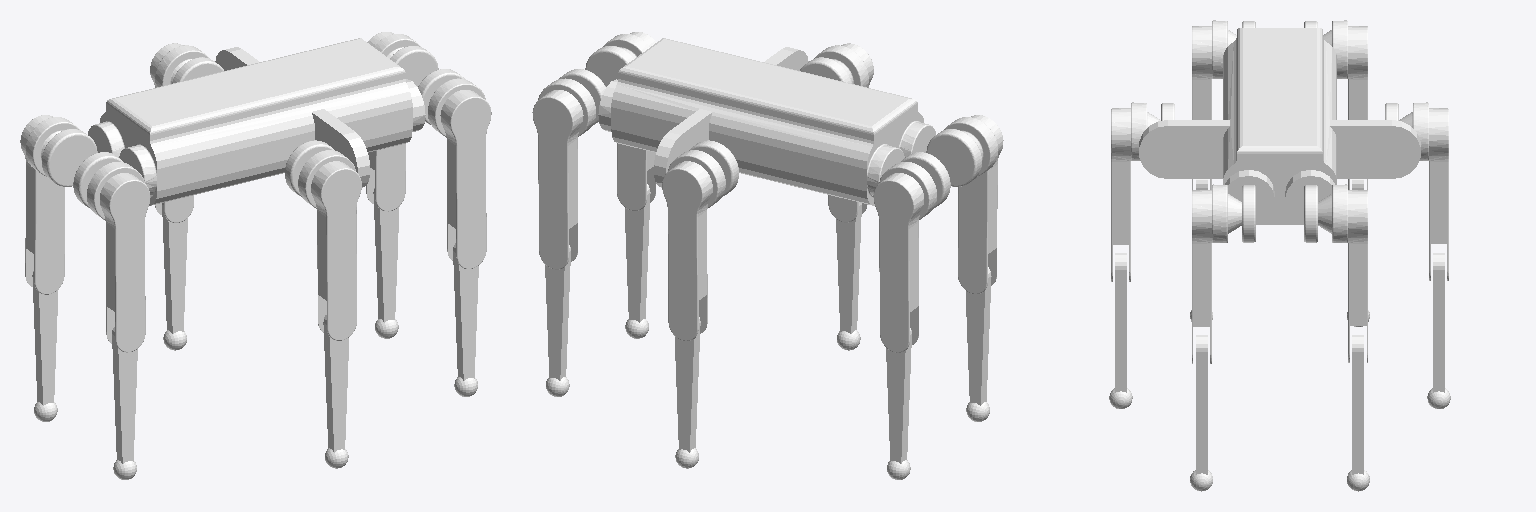
--- Render facts (derived) ---
3 views of the same robot in one strip: view 1: azimuth 30°, elevation 25°; view 2: azimuth 150°, elevation 25°; view 3: azimuth 270°, elevation 25° (orthographic).
Model LittleDog with 25 links and 24 joints (18 revolute, 6 fixed), rooted at base, posed every joint at zero.
Visible links, largest first — view 1: base, leg2_leg, leg1_leg, leg3_leg, leg4_leg, leg6_leg, leg1_foot, leg2_foot, leg3_foot, leg6_foot, leg5_foot, leg4_foot (+7 smaller); view 2: base, leg5_leg, leg4_leg, leg6_leg, leg3_leg, leg1_leg, leg1_foot, leg3_foot, leg2_foot, leg6_foot, leg4_foot, leg5_foot (+7 smaller); view 3: base, leg1_leg, leg6_leg, leg2_leg, leg5_leg, leg3_leg, leg4_leg, leg1_foot, leg2_foot, leg5_foot, leg6_foot, leg1_hip (+1 smaller).
Link boxes in pixels (x1=…): base: x1=88, y1=38, x2=425, y2=205; leg2_leg: x1=298, y1=150, x2=361, y2=340; leg1_leg: x1=428, y1=78, x2=491, y2=268; leg3_leg: x1=87, y1=162, x2=150, y2=352; leg4_leg: x1=20, y1=115, x2=79, y2=294; leg6_leg: x1=366, y1=32, x2=420, y2=211; leg1_foot: x1=453, y1=243, x2=478, y2=396; leg2_foot: x1=323, y1=314, x2=348, y2=468; leg3_foot: x1=112, y1=326, x2=137, y2=479; leg6_foot: x1=373, y1=188, x2=399, y2=338; leg5_foot: x1=162, y1=203, x2=187, y2=350; leg4_foot: x1=32, y1=271, x2=58, y2=421; base: x1=598, y1=38, x2=935, y2=205; leg5_leg: x1=662, y1=150, x2=725, y2=340; leg4_leg: x1=873, y1=162, x2=936, y2=352; leg6_leg: x1=532, y1=78, x2=595, y2=269; leg3_leg: x1=944, y1=115, x2=1003, y2=293; leg1_leg: x1=603, y1=32, x2=656, y2=210; leg1_foot: x1=625, y1=184, x2=650, y2=338; leg3_foot: x1=966, y1=267, x2=991, y2=421; leg2_foot: x1=836, y1=202, x2=861, y2=350; leg6_foot: x1=545, y1=245, x2=570, y2=396; leg4_foot: x1=886, y1=328, x2=911, y2=479; leg5_foot: x1=675, y1=317, x2=700, y2=468; base: x1=1139, y1=28, x2=1420, y2=224; leg1_leg: x1=1192, y1=184, x2=1241, y2=363; leg6_leg: x1=1318, y1=184, x2=1367, y2=362; leg2_leg: x1=1111, y1=102, x2=1160, y2=281; leg5_leg: x1=1399, y1=102, x2=1448, y2=280; leg3_leg: x1=1192, y1=20, x2=1236, y2=189; leg4_leg: x1=1323, y1=20, x2=1367, y2=189; leg1_foot: x1=1190, y1=335, x2=1212, y2=491; leg2_foot: x1=1109, y1=253, x2=1132, y2=408; leg5_foot: x1=1427, y1=253, x2=1450, y2=408; leg6_foot: x1=1347, y1=335, x2=1369, y2=491; leg1_hip: x1=1242, y1=185, x2=1255, y2=242.
Size in the robot's own frame: 0.76 by 0.581 by 0.603 metres.
19 mesh visuals loaded from 4 distinct referenced files (4 binary STL).

robot.urdf — LittleDog:
<?xml version="1.0" encoding="utf-8"?>
<robot name="LittleDog">   <!-- <link name="dummy"/>   <joint     name="base_joint"     type="floating">     <origin
    xyz="0 0 0"       rpy="0 0 0" />     <parent       link="dummy" />     <child       link="base" />   </joint> -->
    <link name="base">
        <inertial>
            <origin xyz="0.0 0 0" rpy="0 0 0" />
            <mass value="18" />
            <inertia ixx="2.8097" ixy="-2.0952E-08" ixz="0.00042103" iyy="2.5396" iyz="-1.2134E-07"
                izz="0.597765" />
        </inertial>
        <visual>
            <origin xyz="0 0 0" rpy="0 0 0" />
            <geometry>
                <mesh filename="meshes/base.STL" />
            </geometry>
            <material name="">
                <color rgba="1 1 1 1" />
            </material>
        </visual>
        <collision>
            <origin xyz="0 0 0" rpy="0 0 0" />
            <geometry>
                <mesh filename="meshes/base.STL" />
            </geometry>
        </collision>
    </link>  <!--
    ###########################################LEG############################################################# -->
    <joint name="leg1_hip_joint" type="revolute">
        <origin xyz="0.33 -0.053 0" rpy="0 0 0" />
        <parent link="base" />
        <child link="leg1_hip" />
        <axis xyz="1 0 0" />
        <limit effort="150.0" lower="-3.14" upper="3.14" velocity="12.0" />
        <dynamics damping="0.1" friction="0.1" />
    </joint>
    <link name="leg1_hip">
        <inertial>
            <origin xyz="2.498E-15 2.2766E-11 1.2072E-17" rpy="0 0 0" />
            <mass value="0.17895" />
            <inertia ixx="0.00011469" ixy="-3.4979E-11" ixz="4.0437E-12" iyy="0.00021251"
                iyz="3.2251E-19" izz="0.00011468" />
        </inertial>
        <visual>
            <origin xyz="0 0 0" rpy="0 0 0" />
            <geometry>
                <mesh filename="meshes/hip.STL" />
            </geometry>
            <material name="">
                <color rgba="1 1 1 1" />
            </material>
        </visual>
        <collision>
            <origin xyz="0 0 0" rpy="0 0 0" />
            <geometry>
                <mesh filename="meshes/hip.STL" />
            </geometry>
        </collision>
    </link>
    <joint name="leg1_leg_joint" type="revolute">
        <origin xyz="0 0 0" rpy="0 0 0" />
        <parent link="leg1_hip" />
        <child link="leg1_leg" />
        <axis xyz="0 1 0" />
        <limit effort="150.0" lower="-3.14" upper="3.14" velocity="12.0" />
        <dynamics damping="0.1" friction="0.1" />
    </joint>
    <link name="leg1_leg">
        <inertial>
            <origin xyz="0 -0.058704 -0.04009" rpy="0 0 0" />
            <mass value="0.30946" />
            <inertia ixx="0.0009075" ixy="-0.00021806" ixz="-0.00084388" iyy="0.0021285"
                iyz="-0.00015752" izz="0.0014658" />
        </inertial>
        <visual>
            <origin xyz="0 0 0" rpy="0 -0.95132396 0" />
            <geometry>
                <mesh filename="meshes/leg.STL" />
            </geometry>
            <material name="">
                <color rgba="1 1 1 1" />
            </material>
        </visual>
        <collision>
            <origin xyz="0 0 0" rpy="0 -0.95132396 0" />
            <geometry>
                <mesh filename="meshes/leg.STL" />
            </geometry>
        </collision>
    </link>
    <joint name="leg1_foot_joint" type="revolute">
        <origin xyz="0 -0.08025 -0.249" rpy="0 0 0" />
        <parent link="leg1_leg" />
        <child link="leg1_foot" />
        <axis xyz="0 1 0" />
        <limit effort="150.0" lower="-3.14" upper="3.14" velocity="12.0" />
        <dynamics damping="0.1" friction="0.1" />
    </joint>
    <link name="leg1_foot">
        <inertial>
            <origin xyz="0.0 0 -0.122654" rpy="0 0 0" />
            <mass value="0.18869" />
            <inertia ixx="0.00043151" ixy="5.6906E-12" ixz="0.00064051" iyy="0.0014468"
                iyz="7.208E-12" izz="0.001031" />
        </inertial>
        <visual>
            <origin xyz="0 0 0" rpy="0 1.00424 0" />
            <geometry>
                <mesh filename="meshes/foot.STL" />
            </geometry>
            <material name="">
                <color rgba="1 1 1 1" />
            </material>
        </visual>
        <collision>
            <origin xyz="0 0 0" rpy="0 1.00424 0" />
            <geometry>
                <mesh filename="meshes/foot.STL" />
            </geometry>
        </collision>
    </link>    <!--
    Foot joint -->
    <joint name="leg1_foot_tip_joint" type="fixed">
        <origin rpy="0 0 0" xyz="0 0 -0.255308" />
        <parent link="leg1_foot" />
        <child link="leg1_foot_tip" />
    </joint>    <!-- Foot link -->
    <link name="leg1_foot_tip">
        <contact>
            <lateral_friction value="1" />
            <stiffness value="30000" />
            <damping value="1000" />
        </contact>
        <inertial>
            <mass value="1e-6" />
            <inertia ixx="1e-6" ixy="1e-7" ixz="1e-7" iyy="1e-6" iyz="1e-7" izz="1e-6" />
        </inertial>
        <collision>
            <origin rpy="0 0 0" xyz="0 0 0" />
            <geometry>
                <sphere radius="0.01" />
            </geometry>
        </collision>
        <visual>
            <geometry>
                <sphere radius="0.01" />
            </geometry>
            <material name="" />
        </visual>
    </link> <!--
    ###########################################LEG############################################################# -->  <!--
    ###########################################LEG############################################################# -->
    <joint name="leg2_hip_joint" type="revolute">
        <origin xyz="0 -0.19025 0" rpy="0 0 0" />
        <parent link="base" />
        <child link="leg2_hip" />
        <axis xyz="1 0 0" />
        <limit effort="150.0" lower="-3.14" upper="3.14" velocity="12.0" />
        <dynamics damping="0.1" friction="0.1" />
    </joint>
    <link name="leg2_hip">
        <inertial>
            <origin xyz="2.498E-15 2.2766E-11 1.2072E-17" rpy="0 0 0" />
            <mass value="0.17895" />
            <inertia ixx="0.00011469" ixy="-3.4979E-11" ixz="4.0437E-12" iyy="0.00021251"
                iyz="3.2251E-19" izz="0.00011468" />
        </inertial>
        <visual>
            <origin xyz="0 0 0" rpy="0 0 0" />
            <geometry>
                <mesh filename="meshes/hip.STL" />
            </geometry>
            <material name="">
                <color rgba="1 1 1 1" />
            </material>
        </visual>
        <collision>
            <origin xyz="0 0 0" rpy="0 0 0" />
            <geometry>
                <mesh filename="meshes/hip.STL" />
            </geometry>
        </collision>
    </link>
    <joint name="leg2_leg_joint" type="revolute">
        <origin xyz="0 0 0" rpy="0 0 0" />
        <parent link="leg2_hip" />
        <child link="leg2_leg" />
        <axis xyz="0 1 0" />
        <limit effort="150.0" lower="-3.14" upper="3.14" velocity="12.0" />
        <dynamics damping="0.1" friction="0.1" />
    </joint>
    <link name="leg2_leg">
        <inertial>
            <origin xyz="0 -0.058704 -0.04009" rpy="0 0 0" />
            <mass value="0.30946" />
            <inertia ixx="0.0009075" ixy="-0.00021806" ixz="-0.00084388" iyy="0.0021285"
                iyz="-0.00015752" izz="0.0014658" />
        </inertial>
        <visual>
            <origin xyz="0 0 0" rpy="0 -0.95132396 0" />
            <geometry>
                <mesh filename="meshes/leg.STL" />
            </geometry>
            <material name="">
                <color rgba="1 1 1 1" />
            </material>
        </visual>
        <collision>
            <origin xyz="0 0 0" rpy="0 -0.95132396 0" />
            <geometry>
                <mesh filename="meshes/leg.STL" />
            </geometry>
        </collision>
    </link>
    <joint name="leg2_foot_joint" type="revolute">
        <origin xyz="0 -0.08025 -0.249" rpy="0 0 0" />
        <parent link="leg2_leg" />
        <child link="leg2_foot" />
        <axis xyz="0 1 0" />
        <limit effort="150.0" lower="-3.14" upper="3.14" velocity="12.0" />
        <dynamics damping="0.1" friction="0.1" />
    </joint>
    <link name="leg2_foot">
        <inertial>
            <origin xyz="0.0 0 -0.122654" rpy="0 0 0" />
            <mass value="0.18869" />
            <inertia ixx="0.00043151" ixy="5.6906E-12" ixz="0.00064051" iyy="0.0014468"
                iyz="7.208E-12" izz="0.001031" />
        </inertial>
        <visual>
            <origin xyz="0 0 0" rpy="0 1.00424 0" />
            <geometry>
                <mesh filename="meshes/foot.STL" />
            </geometry>
            <material name="">
                <color rgba="1 1 1 1" />
            </material>
        </visual>
        <collision>
            <origin xyz="0 0 0" rpy="0 1.00424 0" />
            <geometry>
                <mesh filename="meshes/foot.STL" />
            </geometry>
        </collision>
    </link>    <!--
    Foot joint -->
    <joint name="leg2_foot_tip_joint" type="fixed">
        <origin rpy="0 0 0" xyz="0 0 -0.255308" />
        <parent link="leg2_foot" />
        <child link="leg2_foot_tip" />
    </joint>    <!-- Foot link -->
    <link name="leg2_foot_tip">
        <contact>
            <lateral_friction value="1" />
            <stiffness value="30000" />
            <damping value="1000" />
        </contact>
        <inertial>
            <mass value="1e-6" />
            <inertia ixx="1e-6" ixy="1e-7" ixz="1e-7" iyy="1e-6" iyz="1e-7" izz="1e-6" />
        </inertial>
        <collision>
            <origin rpy="0 0 0" xyz="0 0 0" />
            <geometry>
                <sphere radius="0.01" />
            </geometry>
        </collision>
        <visual>
            <geometry>
                <sphere radius="0.01" />
            </geometry>
            <material name="" />
        </visual>
    </link> <!--
    ###########################################LEG############################################################# -->    <!--
    ###########################################LEG############################################################# -->
    <joint name="leg3_hip_joint" type="revolute">
        <origin xyz="-0.33 -0.053 0" rpy="0 0 0" />
        <parent link="base" />
        <child link="leg3_hip" />
        <axis xyz="1 0 0" />
        <limit effort="150.0" lower="-3.14" upper="3.14" velocity="12.0" />
        <dynamics damping="0.1" friction="0.1" />
    </joint>
    <link name="leg3_hip">
        <inertial>
            <origin xyz="2.498E-15 2.2766E-11 1.2072E-17" rpy="0 0 0" />
            <mass value="0.17895" />
            <inertia ixx="0.00011469" ixy="-3.4979E-11" ixz="4.0437E-12" iyy="0.00021251"
                iyz="3.2251E-19" izz="0.00011468" />
        </inertial>
        <visual>
            <origin xyz="0 0 0" rpy="0 0 0" />
            <geometry>
                <mesh filename="meshes/hip.STL" />
            </geometry>
            <material name="">
                <color rgba="1 1 1 1" />
            </material>
        </visual>
        <collision>
            <origin xyz="0 0 0" rpy="0 0 0" />
            <geometry>
                <mesh filename="meshes/hip.STL" />
            </geometry>
        </collision>
    </link>
    <joint name="leg3_leg_joint" type="revolute">
        <origin xyz="0 0 0" rpy="0 0 0" />
        <parent link="leg3_hip" />
        <child link="leg3_leg" />
        <axis xyz="0 1 0" />
        <limit effort="150.0" lower="-3.14" upper="3.14" velocity="12.0" />
        <dynamics damping="0.1" friction="0.1" />
    </joint>
    <link name="leg3_leg">
        <inertial>
            <origin xyz="0 -0.058704 -0.04009" rpy="0 0 0" />
            <mass value="0.30946" />
            <inertia ixx="0.0009075" ixy="-0.00021806" ixz="-0.00084388" iyy="0.0021285"
                iyz="-0.00015752" izz="0.0014658" />
        </inertial>
        <visual>
            <origin xyz="0 0 0" rpy="0 -0.95132396 0" />
            <geometry>
                <mesh filename="meshes/leg.STL" />
            </geometry>
            <material name="">
                <color rgba="1 1 1 1" />
            </material>
        </visual>
        <collision>
            <origin xyz="0 0 0" rpy="0 -0.95132396 0" />
            <geometry>
                <mesh filename="meshes/leg.STL" />
            </geometry>
        </collision>
    </link>
    <joint name="leg3_foot_joint" type="revolute">
        <origin xyz="0 -0.08025 -0.249" rpy="0 0 0" />
        <parent link="leg3_leg" />
        <child link="leg3_foot" />
        <axis xyz="0 1 0" />
        <limit effort="150.0" lower="-3.14" upper="3.14" velocity="12.0" />
        <dynamics damping="0.1" friction="0.1" />
    </joint>
    <link name="leg3_foot">
        <inertial>
            <origin xyz="0.0 0 -0.122654" rpy="0 0 0" />
            <mass value="0.18869" />
            <inertia ixx="0.00043151" ixy="5.6906E-12" ixz="0.00064051" iyy="0.0014468"
                iyz="7.208E-12" izz="0.001031" />
        </inertial>
        <visual>
            <origin xyz="0 0 0" rpy="0 1.00424 0" />
            <geometry>
                <mesh filename="meshes/foot.STL" />
            </geometry>
            <material name="">
                <color rgba="1 1 1 1" />
            </material>
        </visual>
        <collision>
            <origin xyz="0 0 0" rpy="0 1.00424 0" />
            <geometry>
                <mesh filename="meshes/foot.STL" />
            </geometry>
        </collision>
    </link>    <!--
    Foot joint -->
    <joint name="leg3_foot_tip_joint" type="fixed">
        <origin rpy="0 0 0" xyz="0 0 -0.255308" />
        <parent link="leg3_foot" />
        <child link="leg3_foot_tip" />
    </joint>    <!-- Foot link -->
    <link name="leg3_foot_tip">
        <contact>
            <lateral_friction value="1" />
            <stiffness value="30000" />
            <damping value="1000" />
        </contact>
        <inertial>
            <mass value="1e-6" />
            <inertia ixx="1e-6" ixy="1e-7" ixz="1e-7" iyy="1e-6" iyz="1e-7" izz="1e-6" />
        </inertial>
        <collision>
            <origin rpy="0 0 0" xyz="0 0 0" />
            <geometry>
                <sphere radius="0.01" />
            </geometry>
        </collision>
        <visual>
            <geometry>
                <sphere radius="0.01" />
            </geometry>
            <material name="" />
        </visual>
    </link> <!--
    ###########################################LEG############################################################# -->  <!--
    ###########################################LEG############################################################# -->
    <joint name="leg4_hip_joint" type="revolute">
        <origin xyz="-0.33 0.053 0" rpy="0 0 0" />
        <parent link="base" />
        <child link="leg4_hip" />
        <axis xyz="1 0 0" />
        <limit effort="150.0" lower="-3.14" upper="3.14" velocity="12.0" />
        <dynamics damping="0.1" friction="0.1" />
    </joint>
    <link name="leg4_hip">
        <inertial>
            <origin xyz="2.498E-15 2.2766E-11 1.2072E-17" rpy="0 0 0" />
            <mass value="0.17895" />
            <inertia ixx="0.00011469" ixy="-3.4979E-11" ixz="4.0437E-12" iyy="0.00021251"
                iyz="3.2251E-19" izz="0.00011468" />
        </inertial>
        <visual>
            <origin xyz="0 0 0" rpy="0 0 0" />
            <geometry>
                <mesh filename="meshes/hip.STL" />
            </geometry>
            <material name="">
                <color rgba="1 1 1 1" />
            </material>
        </visual>
        <collision>
            <origin xyz="0 0 0" rpy="0 0 0" />
            <geometry>
                <mesh filename="meshes/hip.STL" />
            </geometry>
        </collision>
    </link>
    <joint name="leg4_leg_joint" type="revolute">
        <origin xyz="0 0 0" rpy="0 0 0" />
        <parent link="leg4_hip" />
        <child link="leg4_leg" />
        <axis xyz="0 1 0" />
        <limit effort="150.0" lower="-3.14" upper="3.14" velocity="12.0" />
        <dynamics damping="0.1" friction="0.1" />
    </joint>
    <link name="leg4_leg">
        <inertial>
            <origin xyz="0 0.058704 -0.04009" rpy="0 0 0" />
            <mass value="0.30946" />
            <inertia ixx="0.0009075" ixy="-0.00021806" ixz="-0.00084388" iyy="0.0021285"
                iyz="-0.00015752" izz="0.0014658" />
        </inertial>
        <visual>
            <origin xyz="0 0 0" rpy="0 -0.95132396 3.1415926535" />
            <geometry>
                <mesh filename="meshes/leg.STL" />
            </geometry>
            <material name="">
                <color rgba="1 1 1 1" />
            </material>
        </visual>
        <collision>
            <origin xyz="0 0 0" rpy="0 -0.95132396 3.1415926535" />
            <geometry>
                <mesh filename="meshes/leg.STL" />
            </geometry>
        </collision>
    </link>
    <joint name="leg4_foot_joint" type="revolute">
        <origin xyz="0 0.08025 -0.249" rpy="0 0 0" />
        <parent link="leg4_leg" />
        <child link="leg4_foot" />
        <axis xyz="0 1 0" />
        <limit effort="150.0" lower="-3.14" upper="3.14" velocity="12.0" />
        <dynamics damping="0.1" friction="0.1" />
    </joint>
    <link name="leg4_foot">
        <inertial>
            <origin xyz="0.0 0 -0.122654" rpy="0 0 0" />
            <mass value="0.18869" />
            <inertia ixx="0.00043151" ixy="5.6906E-12" ixz="0.00064051" iyy="0.0014468"
                iyz="7.208E-12" izz="0.001031" />
        </inertial>
        <visual>
            <origin xyz="0 0 0" rpy="0 1.00424 3.1415926535" />
            <geometry>
                <mesh filename="meshes/foot.STL" />
            </geometry>
            <material name="">
                <color rgba="1 1 1 1" />
            </material>
        </visual>
        <collision>
            <origin xyz="0 0 0" rpy="0 1.00424 3.1415926535" />
            <geometry>
                <mesh filename="meshes/foot.STL" />
            </geometry>
        </collision>
    </link>    <!--
    Foot joint -->
    <joint name="leg4_foot_tip_joint" type="fixed">
        <origin rpy="0 0 0" xyz="0 0 -0.255308" />
        <parent link="leg4_foot" />
        <child link="leg4_foot_tip" />
    </joint>    <!-- Foot link -->
    <link name="leg4_foot_tip">
        <contact>
            <lateral_friction value="1" />
            <stiffness value="30000" />
            <damping value="1000" />
        </contact>
        <inertial>
            <mass value="1e-6" />
            <inertia ixx="1e-6" ixy="1e-7" ixz="1e-7" iyy="1e-6" iyz="1e-7" izz="1e-6" />
        </inertial>
        <collision>
            <origin rpy="0 0 0" xyz="0 0 0" />
            <geometry>
                <sphere radius="0.01" />
            </geometry>
        </collision>
        <visual>
            <geometry>
                <sphere radius="0.01" />
            </geometry>
            <material name="" />
        </visual>
    </link> <!--
    ###########################################LEG############################################################# -->  <!--
    ###########################################LEG############################################################# -->
    <joint name="leg5_hip_joint" type="revolute">
        <origin xyz="0 0.19025 0" rpy="0 0 0" />
        <parent link="base" />
        <child link="leg5_hip" />
        <axis xyz="1 0 0" />
        <limit effort="150.0" lower="-3.14" upper="3.14" velocity="12.0" />
        <dynamics damping="0.1" friction="0.1" />
    </joint>
    <link name="leg5_hip">
        <inertial>
            <origin xyz="2.498E-15 2.2766E-11 1.2072E-17" rpy="0 0 0" />
            <mass value="0.17895" />
            <inertia ixx="0.00011469" ixy="-3.4979E-11" ixz="4.0437E-12" iyy="0.00021251"
                iyz="3.2251E-19" izz="0.00011468" />
        </inertial>
        <visual>
            <origin xyz="0 0 0" rpy="0 0 0" />
            <geometry>
                <mesh filename="meshes/hip.STL" />
            </geometry>
            <material name="">
                <color rgba="1 1 1 1" />
            </material>
        </visual>
        <collision>
            <origin xyz="0 0 0" rpy="0 0 0" />
            <geometry>
                <mesh filename="meshes/hip.STL" />
            </geometry>
        </collision>
    </link>
    <joint name="leg5_leg_joint" type="revolute">
        <origin xyz="0 0 0" rpy="0 0 0" />
        <parent link="leg5_hip" />
        <child link="leg5_leg" />
        <axis xyz="0 1 0" />
        <limit effort="150.0" lower="-3.14" upper="3.14" velocity="12.0" />
        <dynamics damping="0.1" friction="0.1" />
    </joint>
    <link name="leg5_leg">
        <inertial>
            <origin xyz="0 0.058704 -0.04009" rpy="0 0 0" />
            <mass value="0.30946" />
            <inertia ixx="0.0009075" ixy="-0.00021806" ixz="-0.00084388" iyy="0.0021285"
                iyz="-0.00015752" izz="0.0014658" />
        </inertial>
        <visual>
            <origin xyz="0 0 0" rpy="0 -0.95132396 3.1415926535" />
            <geometry>
                <mesh filename="meshes/leg.STL" />
            </geometry>
            <material name="">
                <color rgba="1 1 1 1" />
            </material>
        </visual>
        <collision>
            <origin xyz="0 0 0" rpy="0 -0.95132396 3.1415926535" />
            <geometry>
                <mesh filename="meshes/leg.STL" />
            </geometry>
        </collision>
    </link>
    <joint name="leg5_foot_joint" type="revolute">
        <origin xyz="0 0.08025 -0.249" rpy="0 0 0" />
        <parent link="leg5_leg" />
        <child link="leg5_foot" />
        <axis xyz="0 1 0" />
        <limit effort="150.0" lower="-3.14" upper="3.14" velocity="12.0" />
        <dynamics damping="0.1" friction="0.1" />
    </joint>
    <link name="leg5_foot">
        <inertial>
            <origin xyz="0.0 0 -0.122654" rpy="0 0 0" />
            <mass value="0.18869" />
            <inertia ixx="0.00043151" ixy="5.6906E-12" ixz="0.00064051" iyy="0.0014468"
                iyz="7.208E-12" izz="0.001031" />
        </inertial>
        <visual>
            <origin xyz="0 0 0" rpy="0 1.00424 3.1415926535" />
            <geometry>
                <mesh filename="meshes/foot.STL" />
            </geometry>
            <material name="">
                <color rgba="1 1 1 1" />
            </material>
        </visual>
        <collision>
            <origin xyz="0 0 0" rpy="0 1.00424 3.1415926535" />
            <geometry>
                <mesh filename="meshes/foot.STL" />
            </geometry>
        </collision>
    </link>    <!--
    Foot joint -->
    <joint name="leg5_foot_tip_joint" type="fixed">
        <origin rpy="0 0 0" xyz="0 0 -0.255308" />
        <parent link="leg5_foot" />
        <child link="leg5_foot_tip" />
    </joint>    <!-- Foot link -->
    <link name="leg5_foot_tip">
        <contact>
            <lateral_friction value="1" />
            <stiffness value="30000" />
            <damping value="1000" />
        </contact>
        <inertial>
            <mass value="1e-6" />
            <inertia ixx="1e-6" ixy="1e-7" ixz="1e-7" iyy="1e-6" iyz="1e-7" izz="1e-6" />
        </inertial>
        <collision>
            <origin rpy="0 0 0" xyz="0 0 0" />
            <geometry>
                <sphere radius="0.01" />
            </geometry>
        </collision>
        <visual>
            <geometry>
                <sphere radius="0.01" />
            </geometry>
            <material name="" />
        </visual>
    </link> <!--
    ###########################################LEG############################################################# -->  <!--
    ###########################################LEG############################################################# -->
    <joint name="leg6_hip_joint" type="revolute">
        <origin xyz="0.33 0.053 0" rpy="0 0 0" />
        <parent link="base" />
        <child link="leg6_hip" />
        <axis xyz="1 0 0" />
        <limit effort="150.0" lower="-3.14" upper="3.14" velocity="12.0" />
        <dynamics damping="0.1" friction="0.1" />
    </joint>
    <link name="leg6_hip">
        <inertial>
            <origin xyz="2.498E-15 2.2766E-11 1.2072E-17" rpy="0 0 0" />
            <mass value="0.17895" />
            <inertia ixx="0.00011469" ixy="-3.4979E-11" ixz="4.0437E-12" iyy="0.00021251"
                iyz="3.2251E-19" izz="0.00011468" />
        </inertial>
        <visual>
            <origin xyz="0 0 0" rpy="0 0 0" />
            <geometry>
                <mesh filename="meshes/hip.STL" />
            </geometry>
            <material name="">
                <color rgba="1 1 1 1" />
            </material>
        </visual>
        <collision>
            <origin xyz="0 0 0" rpy="0 0 0" />
            <geometry>
                <mesh filename="meshes/hip.STL" />
            </geometry>
        </collision>
    </link>
    <joint name="leg6_leg_joint" type="revolute">
        <origin xyz="0 0 0" rpy="0 0 0" />
        <parent link="leg6_hip" />
        <child link="leg6_leg" />
        <axis xyz="0 1 0" />
        <limit effort="150.0" lower="-3.14" upper="3.14" velocity="12.0" />
        <dynamics damping="0.1" friction="0.1" />
    </joint>
    <link name="leg6_leg">
        <inertial>
            <origin xyz="0 0.058704 -0.04009" rpy="0 0 0" />
            <mass value="0.30946" />
            <inertia ixx="0.0009075" ixy="-0.00021806" ixz="-0.00084388" iyy="0.0021285"
                iyz="-0.00015752" izz="0.0014658" />
        </inertial>
        <visual>
            <origin xyz="0 0 0" rpy="0 -0.95132396 3.1415926535" />
            <geometry>
                <mesh filename="meshes/leg.STL" />
            </geometry>
            <material name="">
                <color rgba="1 1 1 1" />
            </material>
        </visual>
        <collision>
            <origin xyz="0 0 0" rpy="0 -0.95132396 3.1415926535" />
            <geometry>
                <mesh filename="meshes/leg.STL" />
            </geometry>
        </collision>
    </link>
    <joint name="leg6_foot_joint" type="revolute">
        <origin xyz="0 0.08025 -0.249" rpy="0 0 0" />
        <parent link="leg6_leg" />
        <child link="leg6_foot" />
        <axis xyz="0 1 0" />
        <limit effort="150.0" lower="-3.14" upper="3.14" velocity="12.0" />
        <dynamics damping="0.1" friction="0.1" />
    </joint>
    <link name="leg6_foot">
        <inertial>
            <origin xyz="0.0 0 -0.122654" rpy="0 0 0" />
            <mass value="0.18869" />
            <inertia ixx="0.00043151" ixy="5.6906E-12" ixz="0.00064051" iyy="0.0014468"
                iyz="7.208E-12" izz="0.001031" />
        </inertial>
        <visual>
            <origin xyz="0 0 0" rpy="0 1.00424 3.1415926535" />
            <geometry>
                <mesh filename="meshes/foot.STL" />
            </geometry>
            <material name="">
                <color rgba="1 1 1 1" />
            </material>
        </visual>
        <collision>
            <origin xyz="0 0 0" rpy="0 1.00424 3.1415926535" />
            <geometry>
                <mesh filename="meshes/foot.STL" />
            </geometry>
        </collision>
    </link>    <!--
    Foot joint -->
    <joint name="leg6_foot_tip_joint" type="fixed">
        <origin rpy="0 0 0" xyz="0 0 -0.255308" />
        <parent link="leg6_foot" />
        <child link="leg6_foot_tip" />
    </joint>    <!-- Foot link -->
    <link name="leg6_foot_tip">
        <contact>
            <lateral_friction value="1" />
            <stiffness value="30000" />
            <damping value="1000" />
        </contact>
        <inertial>
            <mass value="1e-6" />
            <inertia ixx="1e-6" ixy="1e-7" ixz="1e-7" iyy="1e-6" iyz="1e-7" izz="1e-6" />
        </inertial>
        <collision>
            <origin rpy="0 0 0" xyz="0 0 0" />
            <geometry>
                <sphere radius="0.01" />
            </geometry>
        </collision>
        <visual>
            <geometry>
                <sphere radius="0.01" />
            </geometry>
            <material name="" />
        </visual>
    </link> <!--
    ###########################################LEG############################################################# -->
</robot> 
